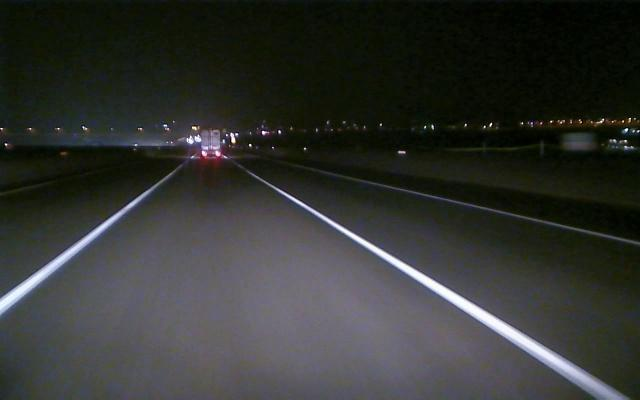lane: (258, 177, 626, 397), (2, 182, 159, 314), (369, 180, 640, 247)
